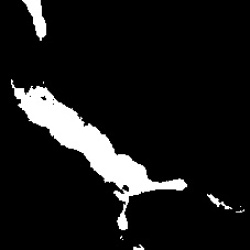crack: (12, 81, 189, 231), (22, 1, 48, 40), (208, 194, 233, 210)
